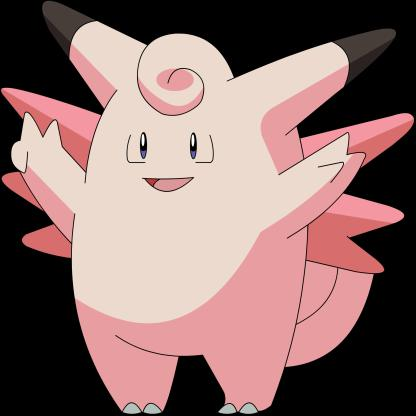Clefable: (4, 1, 416, 416)
